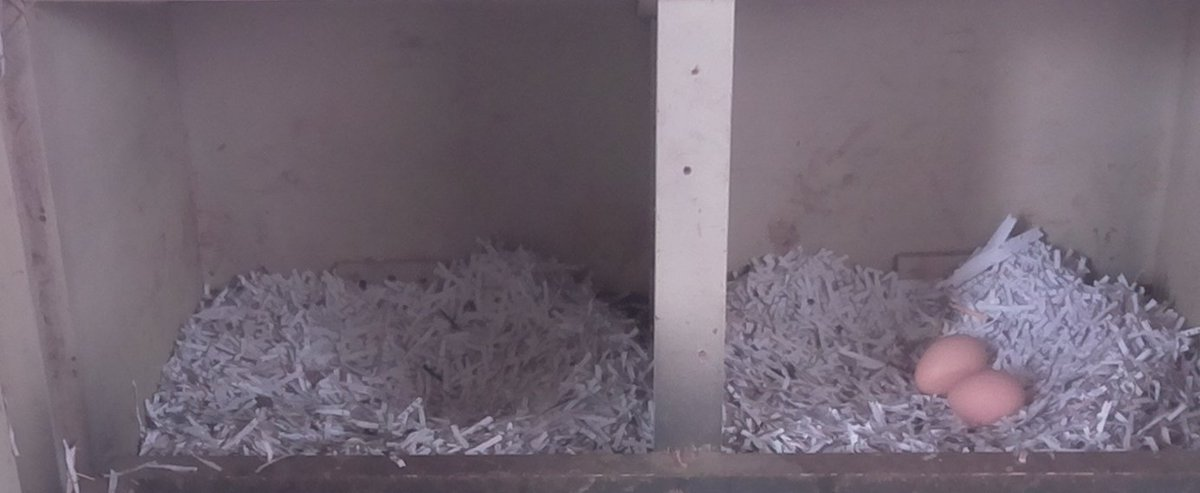egg: (912, 331, 992, 399), (945, 369, 1030, 428)
